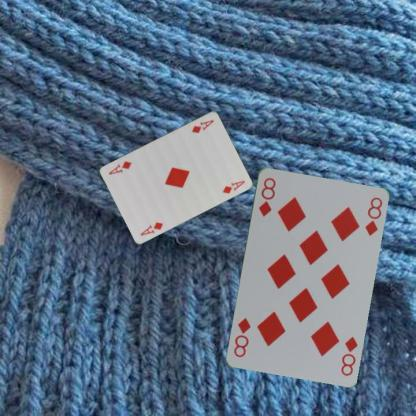8d: (255, 174, 277, 218), (338, 333, 359, 377)
Ad: (138, 219, 165, 236), (189, 117, 215, 134)
